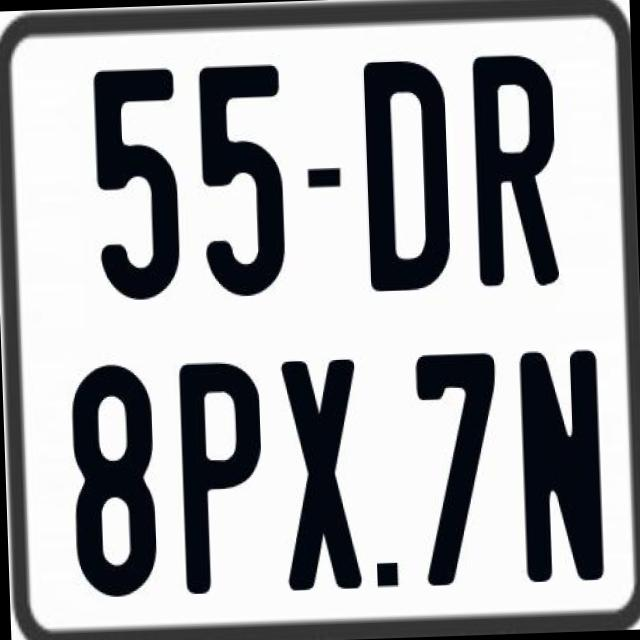5: (195, 63, 291, 304), (90, 65, 180, 302)
7: (414, 352, 502, 596)
8: (65, 360, 159, 598)
D: (361, 56, 456, 298)
N: (518, 344, 608, 585)
P: (178, 358, 264, 598)
R: (471, 54, 566, 295)
X: (280, 357, 368, 592)
